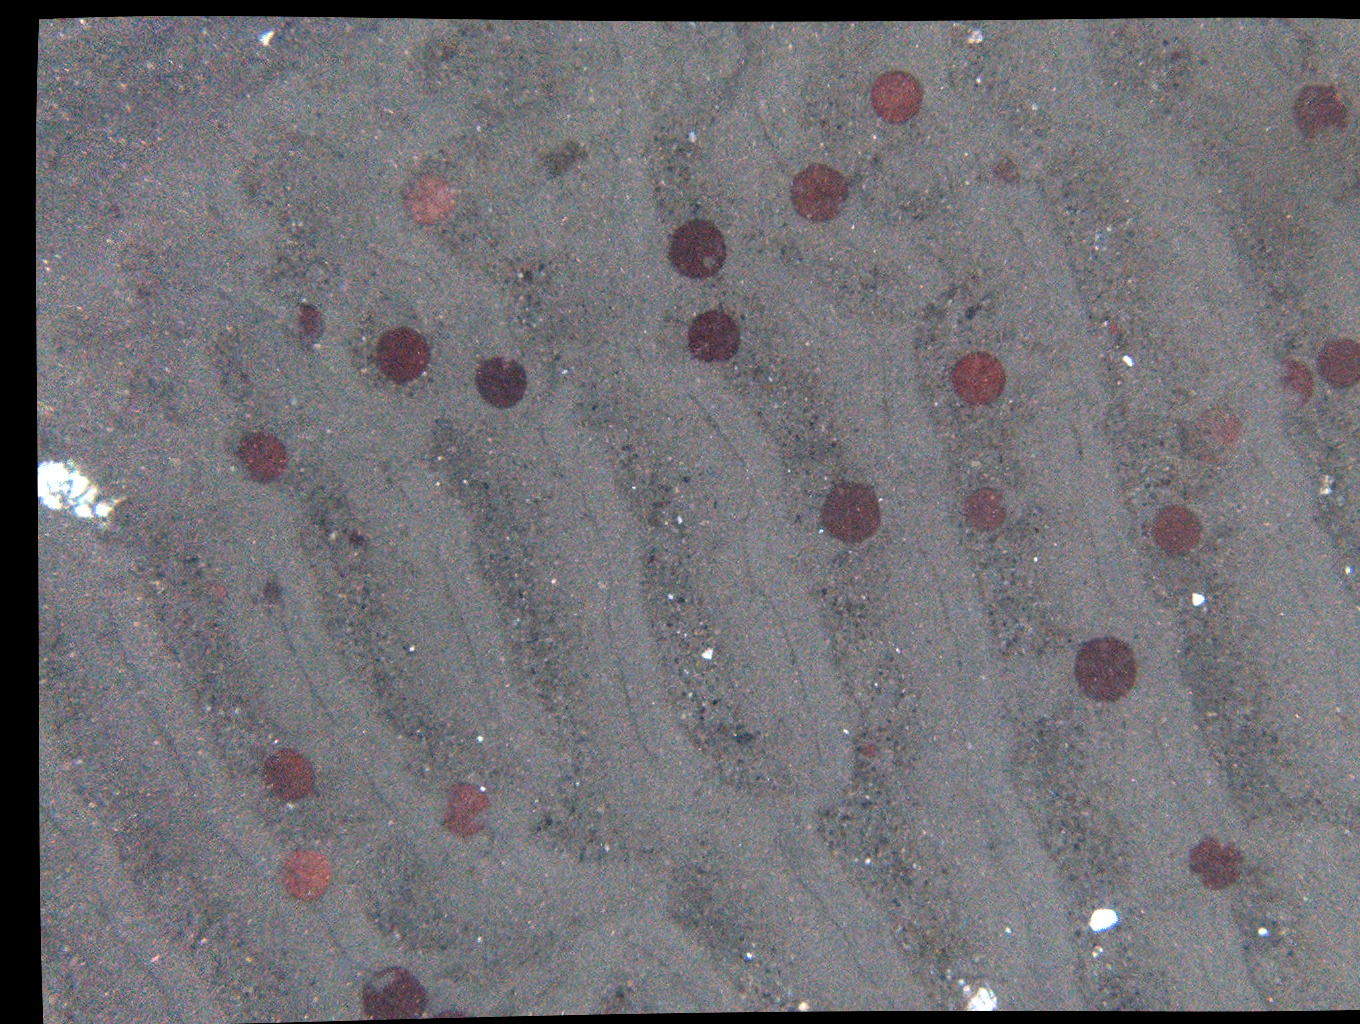Small shell hash: (102, 90, 127, 102)
Substrate B: (66, 46, 99, 70)
sand dollar: (395, 167, 457, 228), (1255, 350, 1317, 411), (1074, 635, 1136, 696), (945, 350, 1007, 411), (946, 480, 1008, 541), (683, 310, 745, 371), (371, 325, 433, 386), (221, 425, 284, 486), (363, 962, 425, 1024), (471, 354, 533, 415), (281, 299, 343, 360), (873, 65, 935, 126), (819, 482, 881, 543), (790, 165, 851, 226), (665, 224, 727, 285), (1148, 500, 1209, 561), (1179, 825, 1241, 886), (247, 748, 309, 809), (1298, 332, 1360, 393), (430, 774, 492, 835), (1288, 77, 1350, 138), (1179, 406, 1241, 466), (275, 844, 337, 905), (340, 520, 387, 563), (200, 571, 247, 614), (982, 150, 1025, 194), (843, 729, 887, 771), (428, 999, 486, 1024), (1099, 310, 1129, 349)
